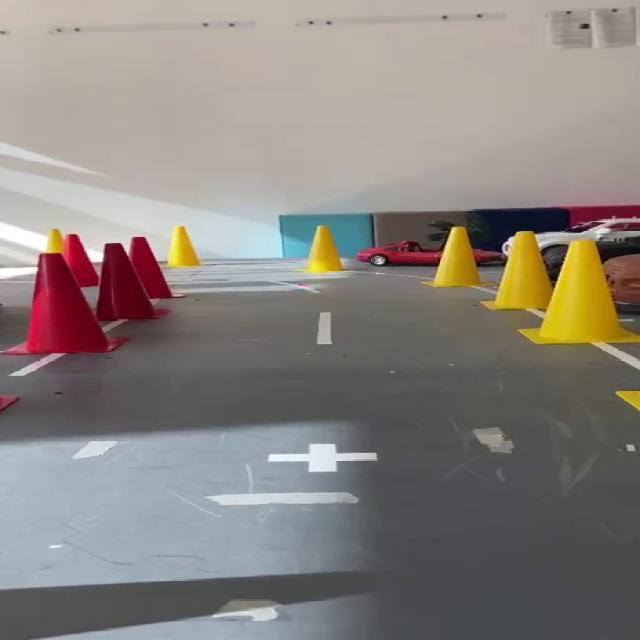Cone-red: (4, 253, 126, 355), (98, 243, 167, 322), (130, 237, 179, 298), (63, 234, 98, 288), (0, 396, 18, 412)
Cones-yellow: (519, 241, 639, 344), (483, 232, 550, 310), (430, 227, 483, 286), (305, 226, 341, 271), (168, 226, 200, 267), (44, 229, 61, 254), (618, 391, 639, 410)
